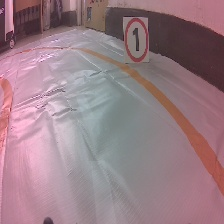limit: (121, 14, 152, 66)
